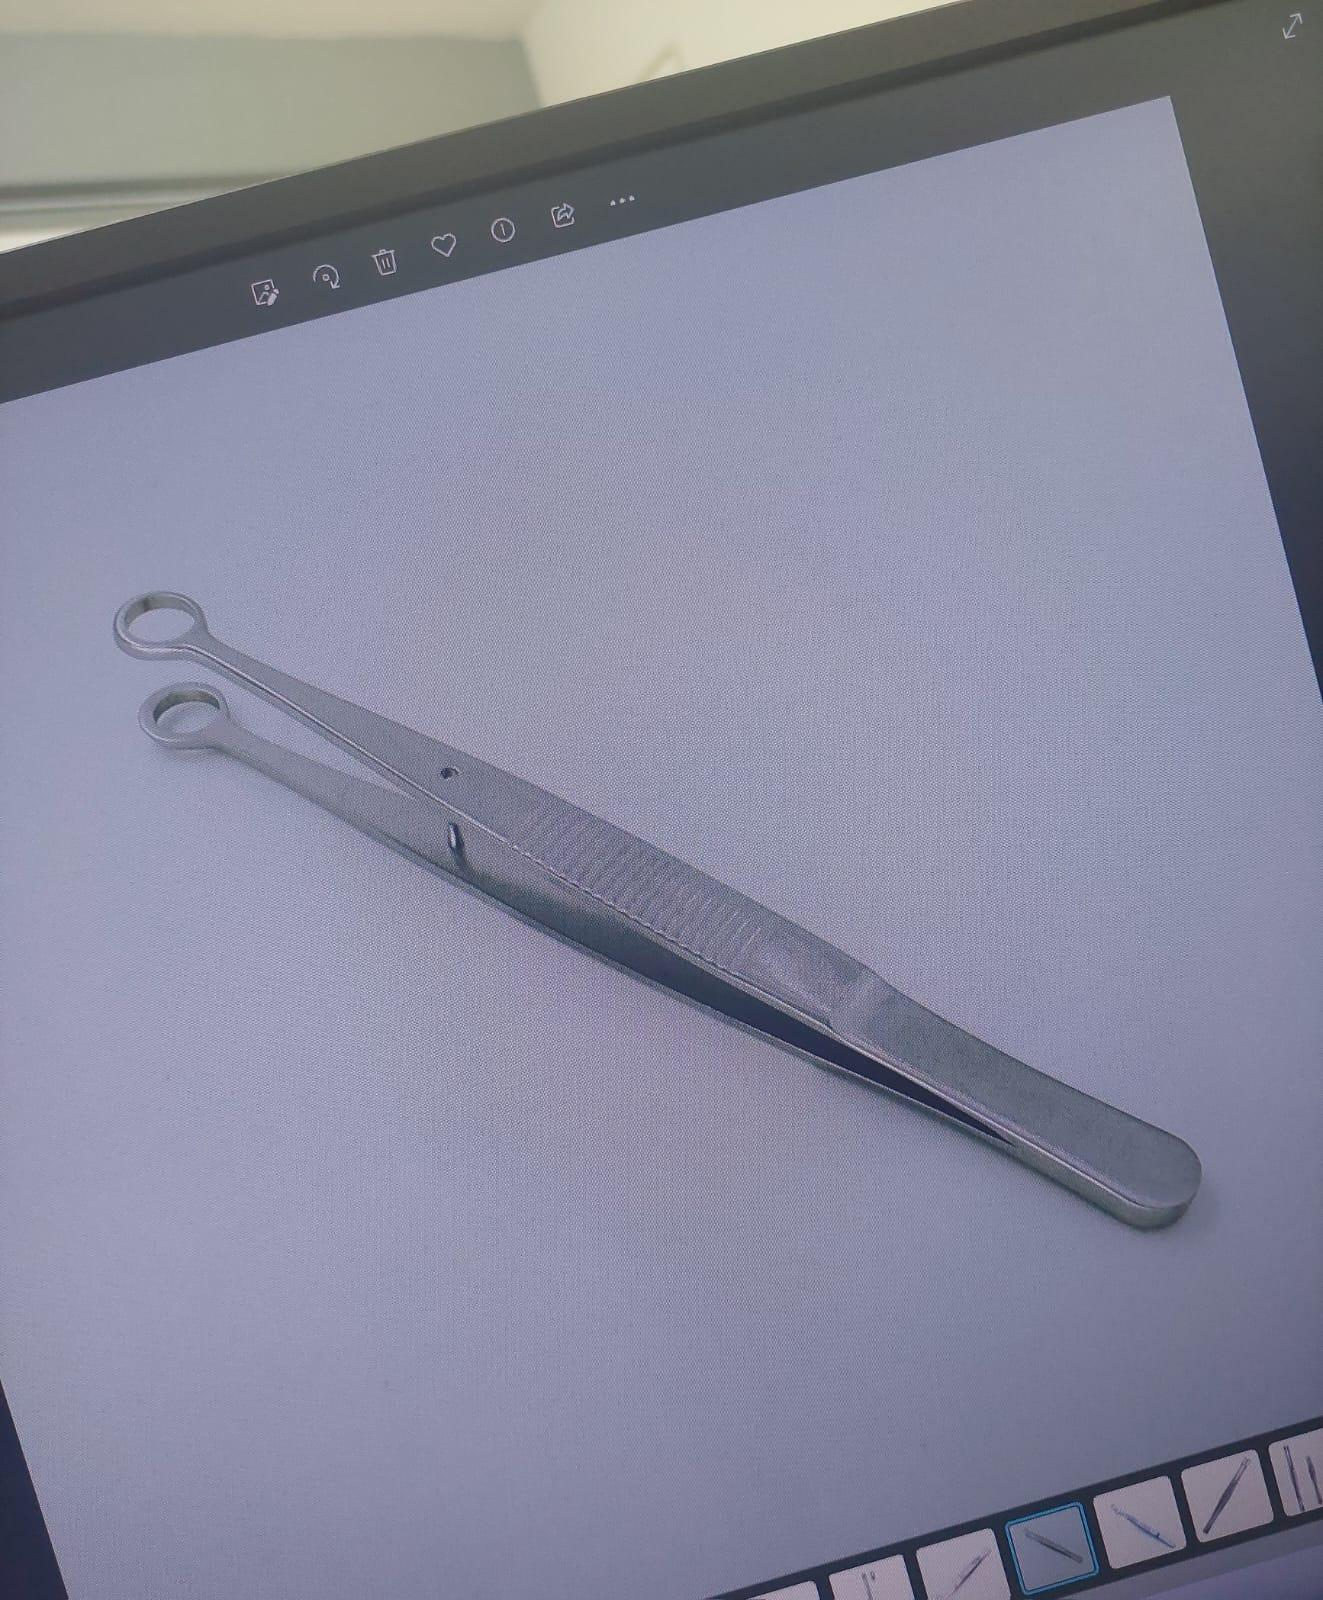Eye Intestinal Forceps: (113, 562, 1225, 1232)
